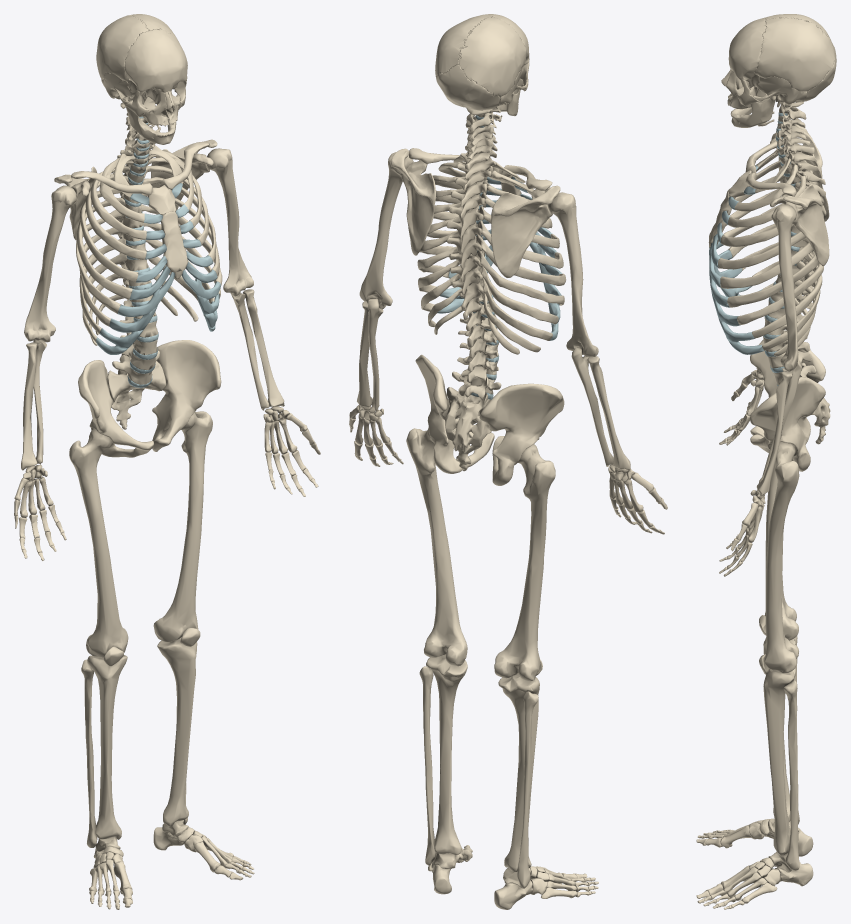
Rendered from skeleton.glb.
3 renders of one model, left to right at view 1: azimuth 30°, elevation 25°; view 2: azimuth 150°, elevation 25°; view 3: azimuth 270°, elevation 25°, orthographic. The views are drawn at different scales.
Visible parts, largest first — view 1: lower-limb-bones, ribcage, upper-limb-bones, skull, pelvis, spine; view 2: lower-limb-bones, upper-limb-bones, ribcage, spine, skull, pelvis; view 3: lower-limb-bones, ribcage, upper-limb-bones, skull, spine, pelvis.
Boxes of the visible parts, <box> form: lower-limb-bones: <box>69,411,254,909</box>; ribcage: <box>76,145,222,354</box>; upper-limb-bones: <box>14,139,320,561</box>; skull: <box>96,14,187,144</box>; pelvis: <box>78,340,221,457</box>; spine: <box>107,99,166,429</box>; lower-limb-bones: <box>406,428,598,909</box>; upper-limb-bones: <box>349,148,667,534</box>; ribcage: <box>417,156,566,354</box>; spine: <box>445,107,501,471</box>; skull: <box>435,14,529,121</box>; pelvis: <box>415,354,564,485</box>; lower-limb-bones: <box>696,442,813,909</box>; ribcage: <box>708,144,824,356</box>; upper-limb-bones: <box>719,124,829,576</box>; skull: <box>721,14,836,127</box>; spine: <box>763,102,830,444</box>; pelvis: <box>750,330,825,471</box>.
Size of the model in its own units: 0.6478 by 1.71 by 0.2541.
